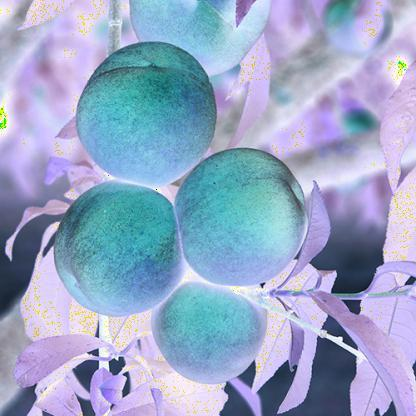Peach leaf: (307, 287, 415, 415), (266, 180, 338, 296), (7, 330, 118, 386), (235, 35, 278, 158), (378, 64, 415, 192), (0, 196, 72, 257)
